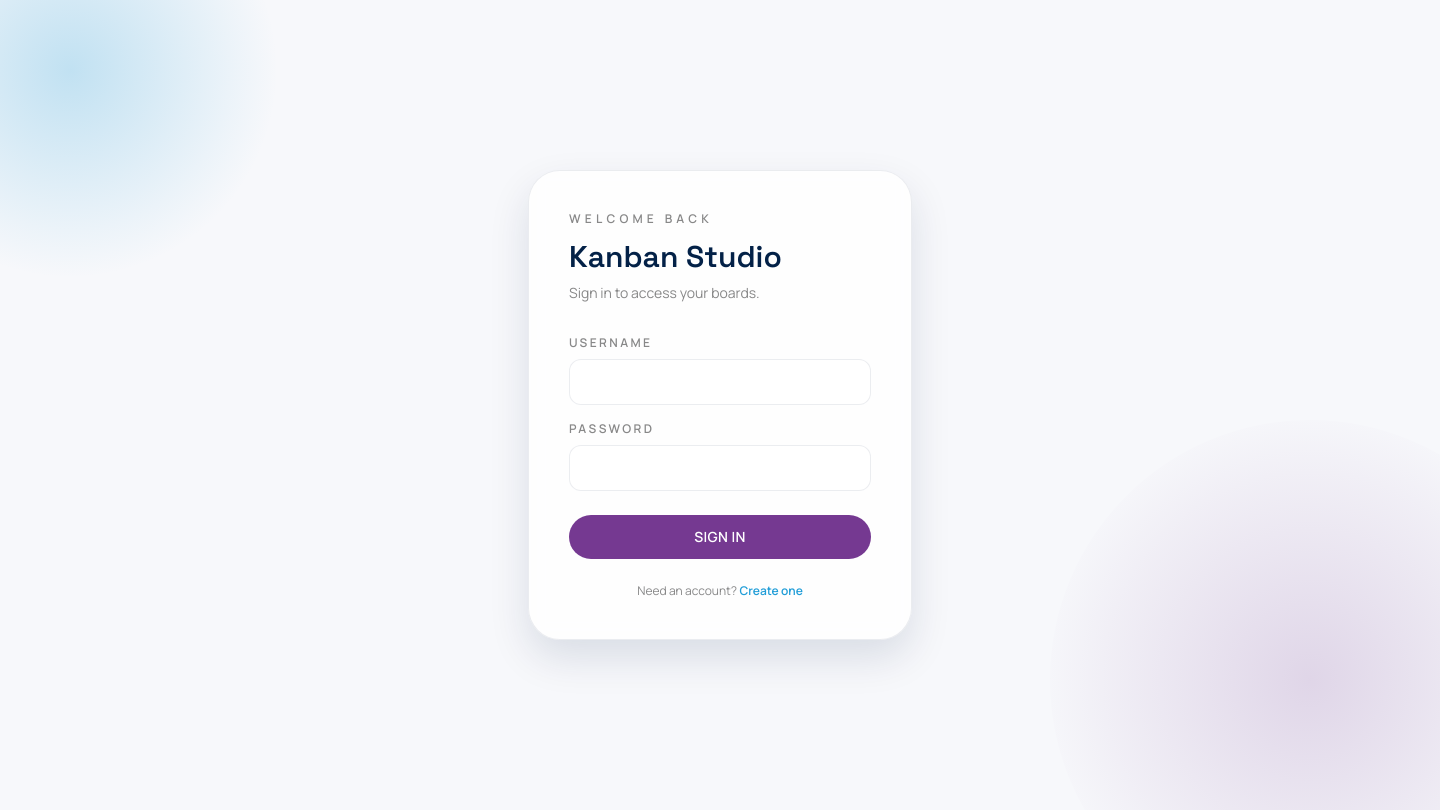
Test: LoginForm › toggles to register mode
Click the button "Create one".
click(771, 591)  # box [740,583,803,599]
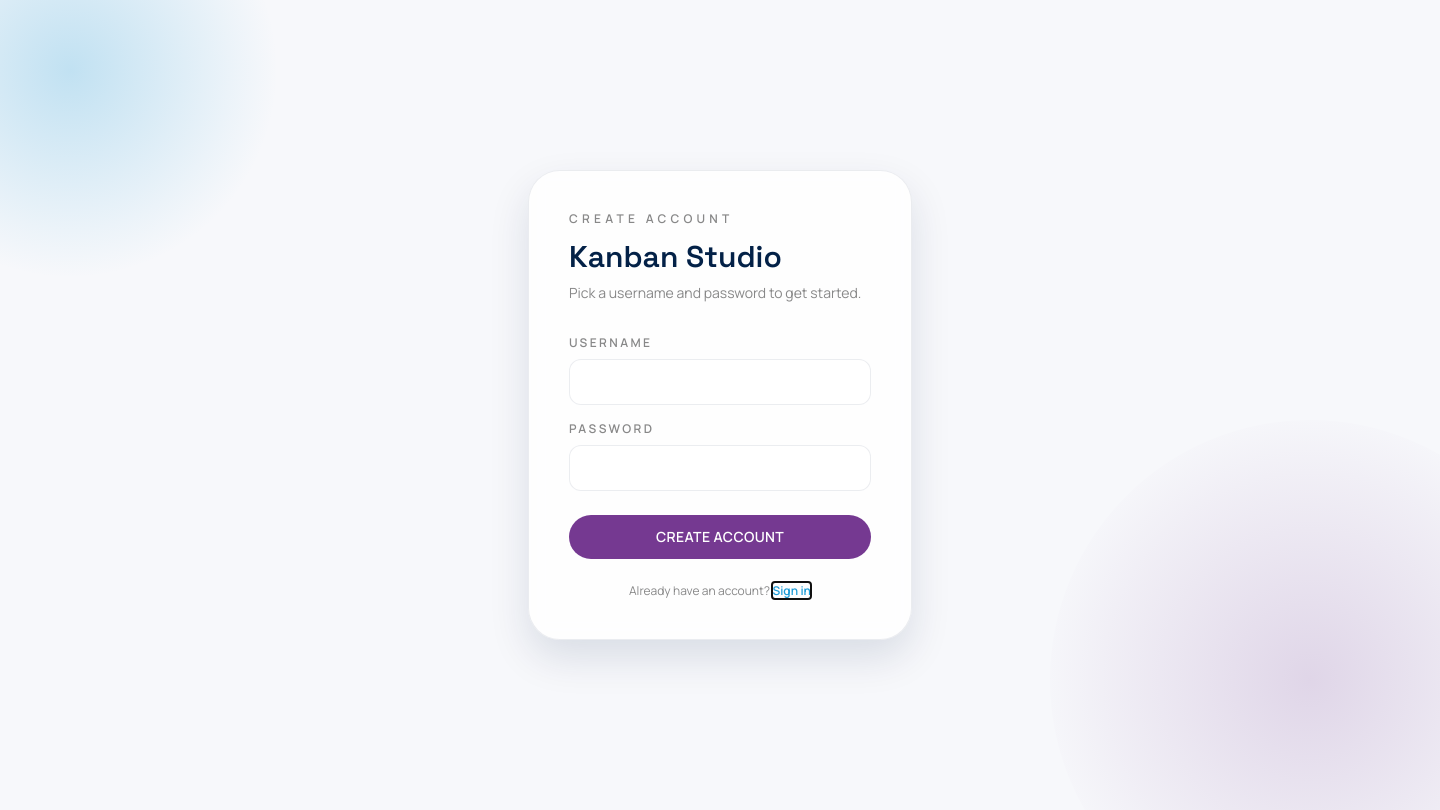
Now the button "Create account" is shown, box [569,515,871,559]
